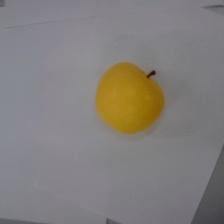yellow: (94, 61, 164, 134)
